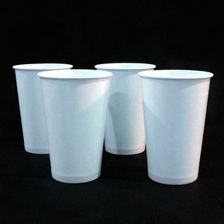paper_cup: (133, 65, 216, 188), (34, 66, 115, 187), (90, 58, 159, 158), (10, 58, 75, 156)
